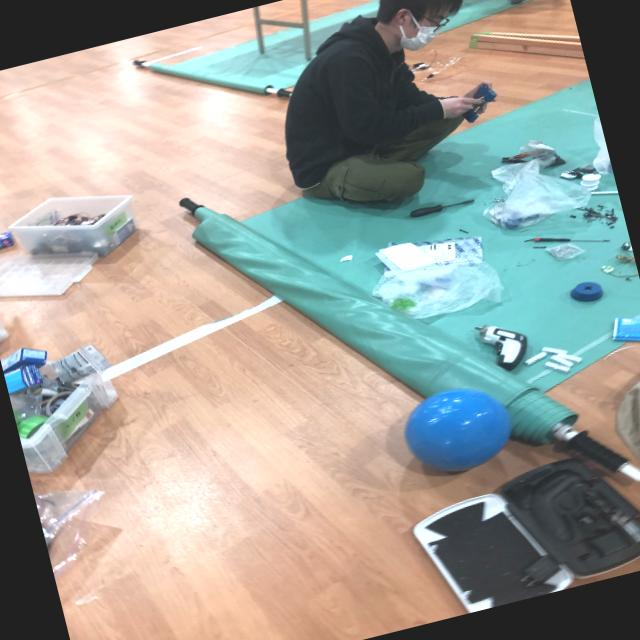blue_ball: (398, 376, 512, 476)
